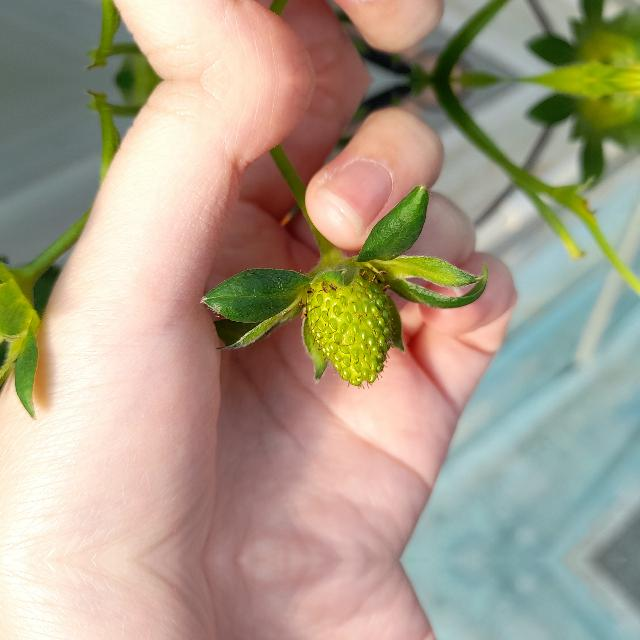Health_25: (305, 270, 395, 388)
